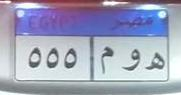5: (62, 48, 80, 72), (45, 46, 62, 70), (28, 47, 42, 71)
haa: (144, 50, 165, 74)
meem: (98, 45, 115, 75)
waw: (120, 46, 141, 75)
